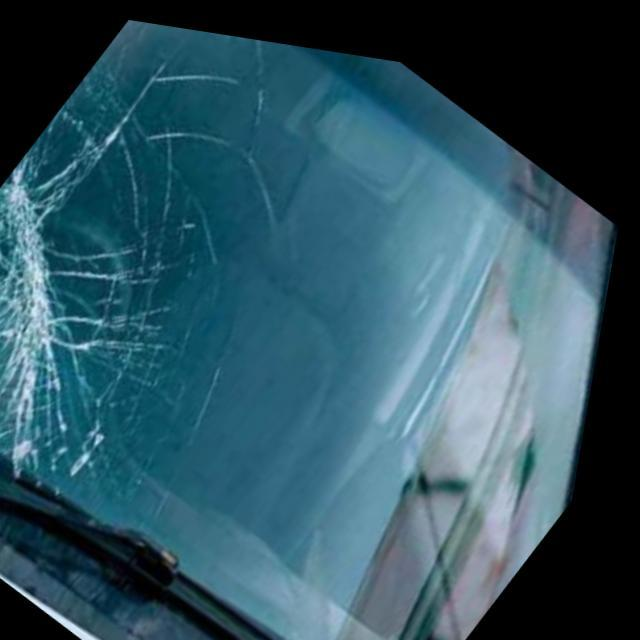glass shatter: (0, 95, 140, 480)
